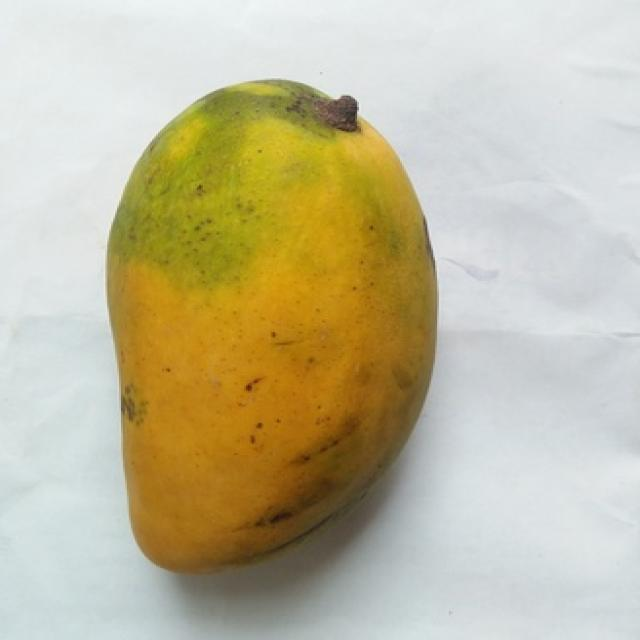Mango: (107, 80, 435, 571)
